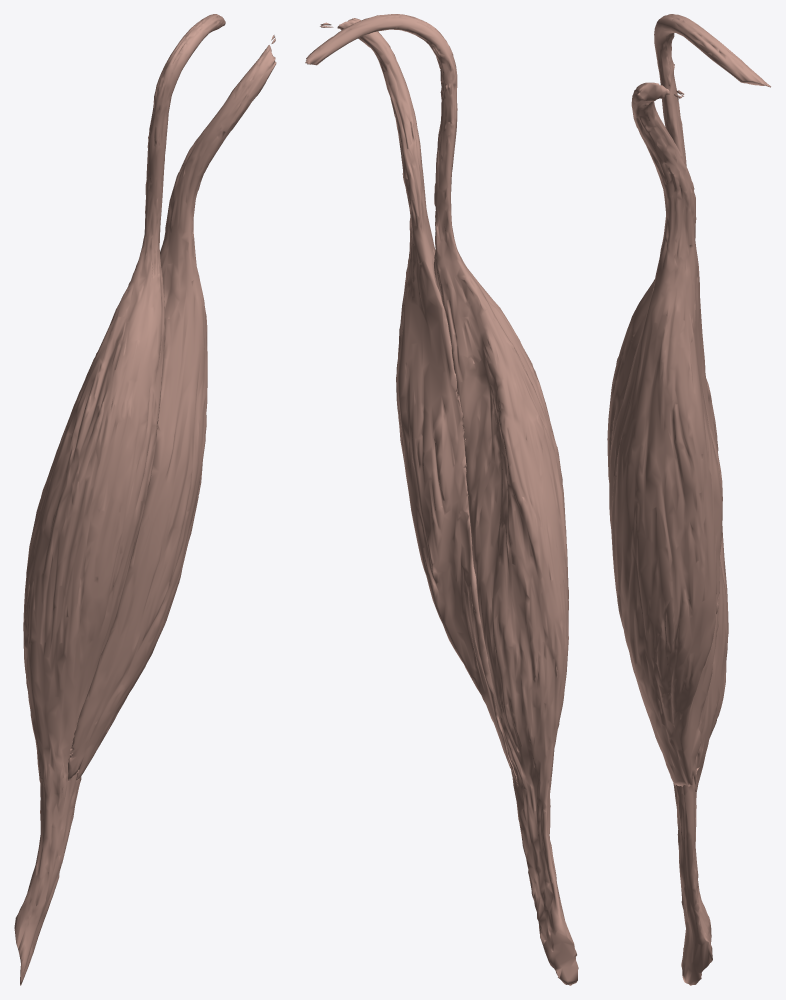
Rendered from biceps.glb.
The picture shows the model from 3 angles, left to right: view 1: azimuth 30°, elevation 25°; view 2: azimuth 150°, elevation 25°; view 3: azimuth 270°, elevation 25°; orthographic projection. The views are drawn at different scales.
Visible parts, largest first — view 1: world; view 2: world; view 3: world.
Part boxes in pixels (box(x1,y1,x2,y2)): world: box(14, 14, 276, 985); world: box(305, 14, 578, 985); world: box(607, 14, 770, 985).
Bounding box in the file's own units: 0.5831 × 2 × 0.2788.
